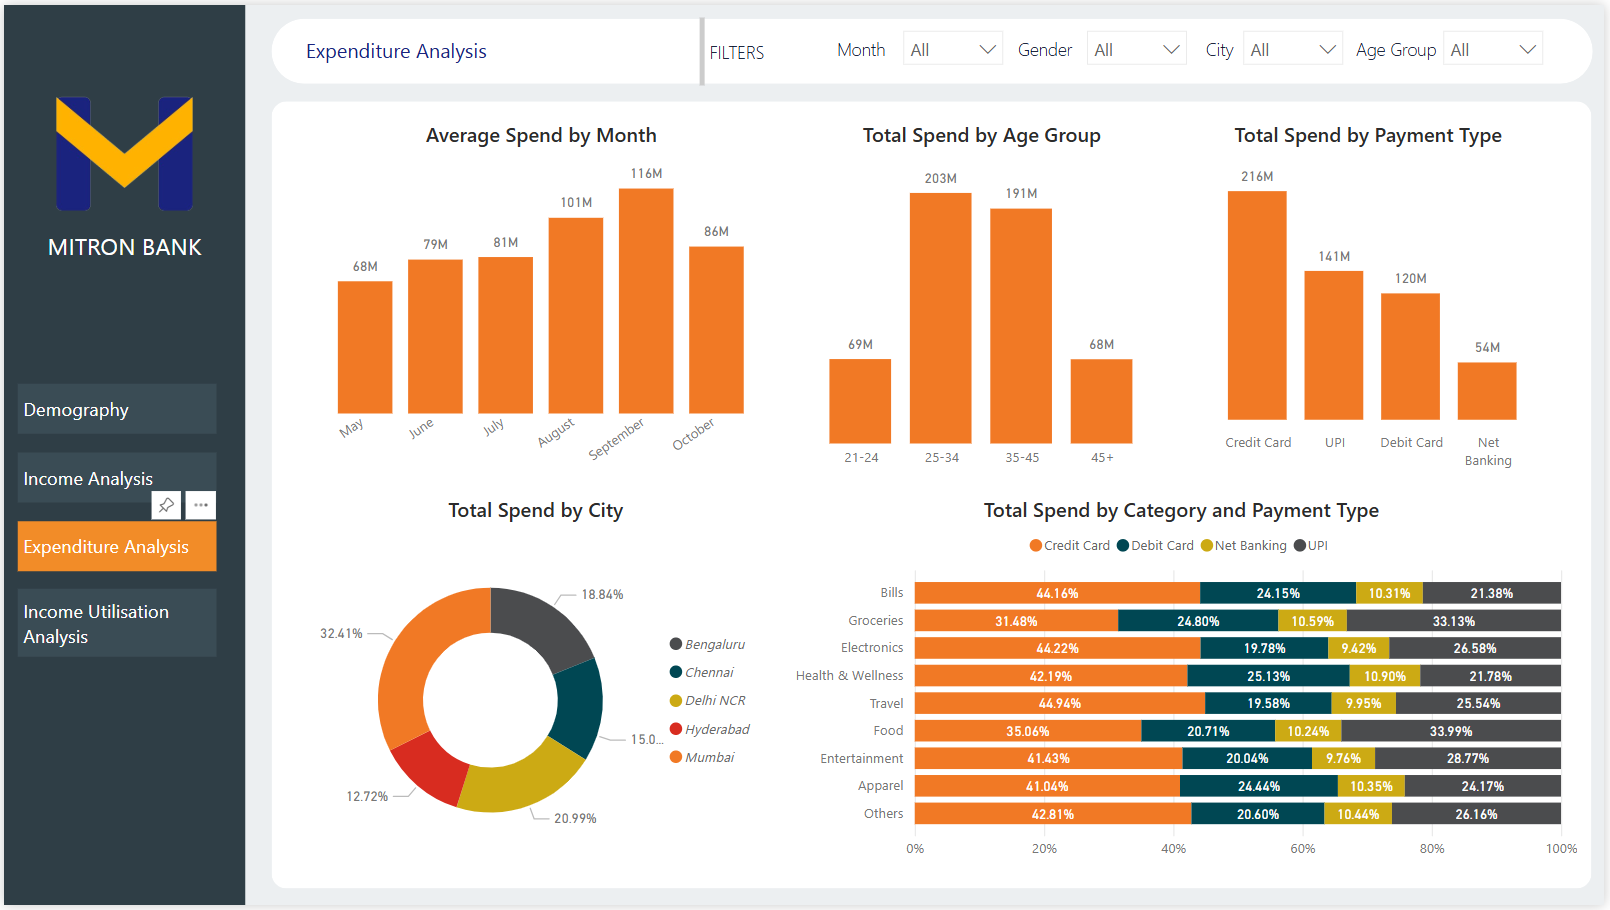

What the dashboard file says about the page in this screenshot:
{"tool":"powerbi","page":{"name":"Expenditure Analysis","canvas":[1280,720],"ordinal":2},"visuals":[{"type":"image","box":[0,0,192,221.2],"z":0,"group":"g6"},{"type":"group","id":"g1","title":"Group 2","box":[214.1,10,1056.6,55],"z":0},{"type":"shape","box":[214.1,11,1056.6,52.1],"z":0,"group":"g1"},{"type":"shape","box":[213.7,76.8,1056.4,630.1],"z":1000},{"type":"textbox","box":[0,175.3,192,45.9],"z":1000,"group":"g6"},{"type":"slicer","fields":{"Values":["fact_spends.month"]},"box":[708.9,10.9,100,45],"z":2000,"group":"g1"},{"type":"columnChart","title":"Total Spend by Payment Type","fields":{"Y":["Sum(fact_spends.spend)"],"Category":["fact_spends.payment_type"]},"box":[941,91.7,300.4,287.1],"z":2000},{"type":"slicer","fields":{"Values":["dim_customers.gender"]},"box":[855.8,10.9,100,45],"z":3000,"group":"g1"},{"type":"columnChart","title":"Average Spend by Month","fields":{"Y":["Sum(fact_spends.spend)"],"Category":["fact_spends.month"]},"box":[238.9,91.7,381.2,285.9],"z":3000},{"type":"slicer","fields":{"Values":["dim_customers.city"]},"box":[980.7,11.2,100,45],"z":4000,"group":"g1"},{"type":"columnChart","title":"Total Spend by Age Group","fields":{"Y":["Sum(fact_spends.spend)"],"Category":["dim_customers.age_group"]},"box":[628.6,91.7,306.4,287.1],"z":4000},{"type":"slicer","fields":{"Values":["dim_customers.age_group"]},"box":[1141.3,10.9,100,45],"z":5000,"group":"g1"},{"type":"hundredPercentStackedBarChart","title":"Total Spend by Category and Payment Type","fields":{"Y":["Avg(fact_spends.spend)"],"Category":["fact_spends.category"],"Series":["fact_spends.payment_type"]},"box":[620.1,392.1,643,300.4],"z":5000},{"type":"textbox","box":[558.8,22.5,70,36.2],"z":6000,"group":"g1"},{"type":"donutChart","title":"Total Spend by City","fields":{"Y":["Sum(fact_spends.spend)"],"Series":["dim_customers.city"]},"box":[240.1,392.1,370.4,306.4],"z":6000},{"type":"textbox","box":[236,20,282,36],"z":7000},{"type":"textbox","box":[796,21.3,72.7,32.7],"z":7000,"group":"g1"},{"type":"shape","box":[0,0,192.6,720.2],"z":8000},{"type":"textbox","box":[955.7,21.2,41.2,36.2],"z":8000,"group":"g1"},{"type":"textbox","box":[1076,21.3,96,37.3],"z":9000,"group":"g1"},{"type":"group","id":"g2","title":"Group 1","box":[10.9,247.4,159.3,273.7],"z":9000},{"type":"actionButton","box":[11.1,467.1,159.3,54.3],"z":9000,"group":"g5"},{"type":"shape","box":[541.3,10,35,55],"z":10000,"group":"g1"},{"type":"group","id":"g3","title":"Group 1","box":[11.1,302.6,159.3,218.8],"z":10000},{"type":"actionButton","title":"HOME","box":[11.4,302.6,158.7,40],"z":10000,"group":"g5"},{"type":"group","id":"g4","title":"Group 3","box":[10.9,247.4,159.3,273.7],"z":10001,"group":"g2"},{"type":"group","id":"g5","title":"Group 3","box":[11.1,302.6,159.3,218.8],"z":10001,"group":"g3"},{"type":"group","id":"g6","title":"Group 4","box":[0,0,192,221.2],"z":11000},{"type":"textbox","box":[661.4,21.3,58,36],"z":11000,"group":"g1"},{"type":"actionButton","title":"HOME","box":[11.4,357.6,158.7,40],"z":11000,"group":"g5"},{"type":"actionButton","title":"HOME","box":[11.4,412.6,158.7,40],"z":12000,"group":"g5"}]}

Visuals, with their boxes on the page's 1280x720 design canvas (x1, y1, x2, y2). These are canvas units, not pixel positions in the 1610x910 screenshot, which may show the page scaled, cropped or inside an application window:
image: select_region(0, 0, 192, 221)
"Group 2" group: select_region(214, 10, 1271, 65)
shape: select_region(214, 11, 1271, 63)
shape: select_region(214, 77, 1270, 707)
textbox: select_region(0, 175, 192, 221)
slicer - fact_spends.month: select_region(709, 11, 809, 56)
"Total Spend by Payment Type" columnChart: select_region(941, 92, 1241, 379)
slicer - dim_customers.gender: select_region(856, 11, 956, 56)
"Average Spend by Month" columnChart: select_region(239, 92, 620, 378)
slicer - dim_customers.city: select_region(981, 11, 1081, 56)
"Total Spend by Age Group" columnChart: select_region(629, 92, 935, 379)
slicer - dim_customers.age_group: select_region(1141, 11, 1241, 56)
"Total Spend by Category and Payment Type" hundredPercentStackedBarChart: select_region(620, 392, 1263, 692)
textbox: select_region(559, 22, 629, 59)
"Total Spend by City" donutChart: select_region(240, 392, 610, 698)
textbox: select_region(236, 20, 518, 56)
textbox: select_region(796, 21, 869, 54)
shape: select_region(0, 0, 193, 720)
textbox: select_region(956, 21, 997, 57)
textbox: select_region(1076, 21, 1172, 59)
"Group 1" group: select_region(11, 247, 170, 521)
actionButton: select_region(11, 467, 170, 521)
shape: select_region(541, 10, 576, 65)
"Group 1" group: select_region(11, 303, 170, 521)
"HOME" actionButton: select_region(11, 303, 170, 343)
"Group 3" group: select_region(11, 247, 170, 521)
"Group 3" group: select_region(11, 303, 170, 521)
"Group 4" group: select_region(0, 0, 192, 221)
textbox: select_region(661, 21, 719, 57)
"HOME" actionButton: select_region(11, 358, 170, 398)
"HOME" actionButton: select_region(11, 413, 170, 453)
